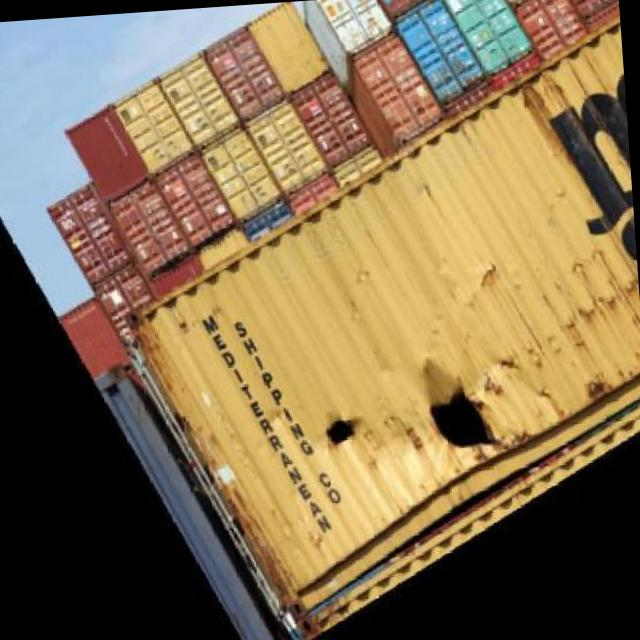Hole: (402, 377, 524, 468), (302, 386, 391, 474)
Rust: (532, 258, 640, 376)
